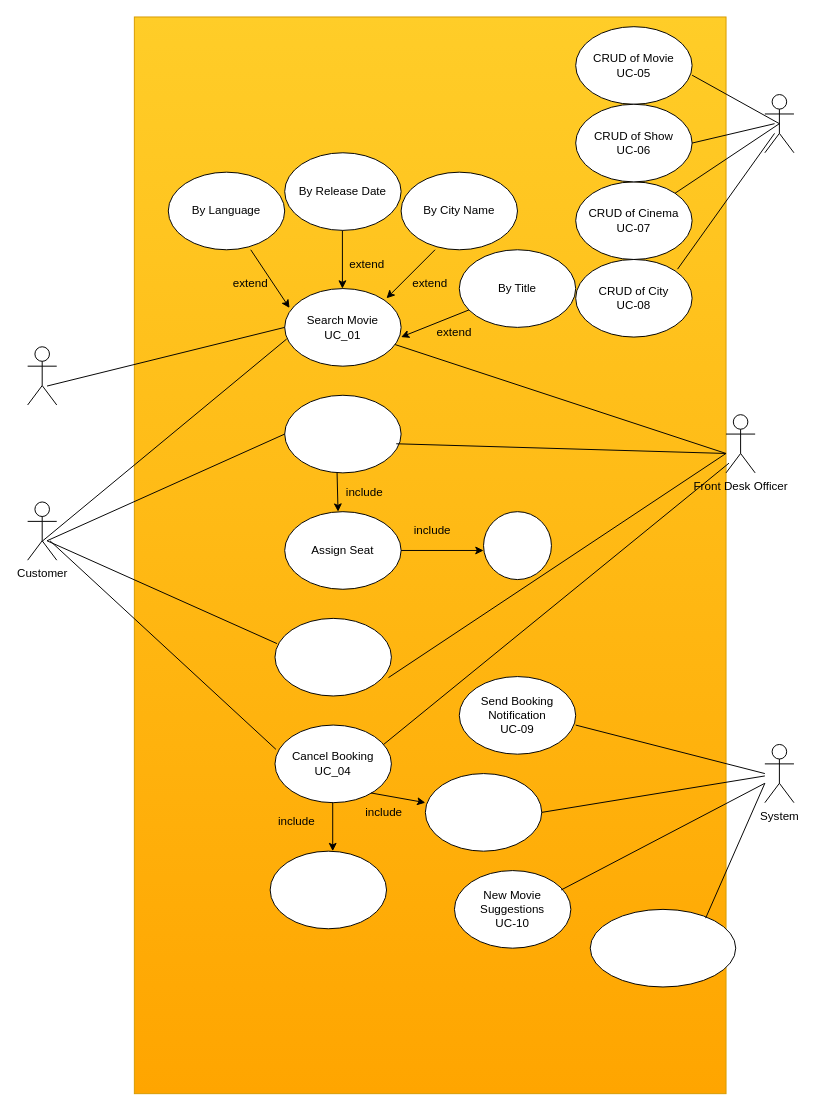
Image size: 840x1111. Some labels were removed from this diagram. Here are the shapes that lost their labels. From the top down, the box of each, then its label:
(764, 94, 794, 153): Internal Operator
(27, 346, 57, 405): Guest
(284, 394, 401, 473): Create Booking UC_02
(483, 511, 551, 580): Make Payment
(274, 617, 391, 696): View Booking UC-03
(424, 773, 542, 851): Send Cancel Notification
(269, 850, 387, 929): Refund Payment
(589, 908, 736, 987): Pull Latest Data from external Theatre system UC-11
